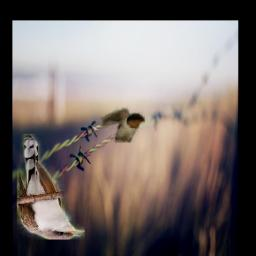Cuckoo: (18, 135, 86, 240)
Swallow: (101, 108, 146, 143)
